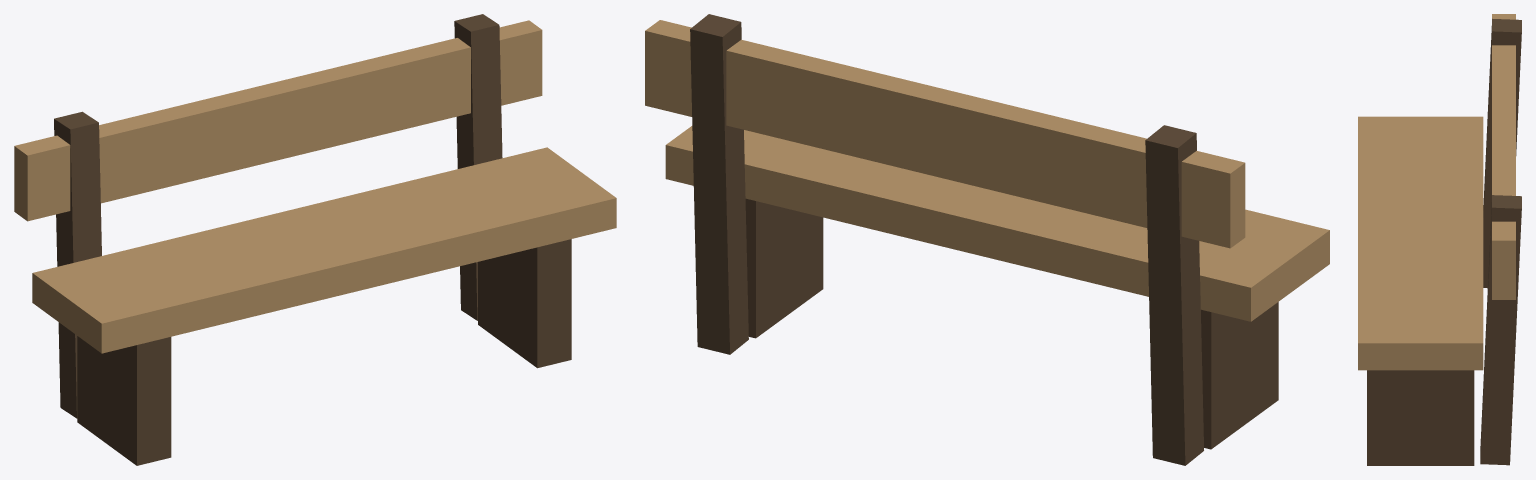
Rendered from prop-bench.glb.
3 views of the same model, side by side, from view 1: azimuth 30°, elevation 25°; view 2: azimuth 150°, elevation 25°; view 3: azimuth 270°, elevation 25° (orthographic). The views are drawn at different scales.
Parts seen in each view (by area): view 1: prop-bench; view 2: prop-bench; view 3: prop-bench.
Boxes of the visible parts, bbox=[...] form: prop-bench: bbox=[14, 14, 616, 465]; prop-bench: bbox=[645, 14, 1329, 465]; prop-bench: bbox=[1358, 14, 1521, 465].
Bounding box in the file's own units: 1.8 × 0.9542 × 0.55.
Materials: 1 (1 with a texture image).
